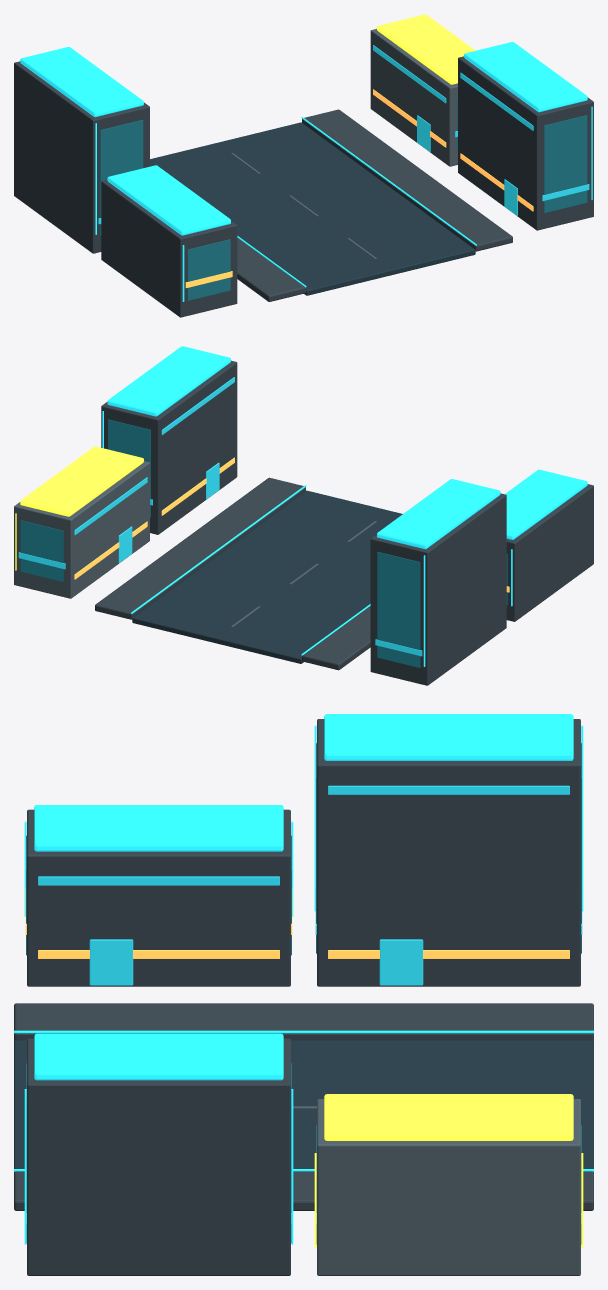
The model's file is alley_lod2.glb.
3 renders of one model, top to bottom at view 1: azimuth 30°, elevation 25°; view 2: azimuth 150°, elevation 25°; view 3: azimuth 270°, elevation 25°, orthographic. The views are drawn at different scales.
Parts seen in each view (by area): view 1: ND_Batch_ND_CityConcrete, ND_Batch_ND_WetAsphalt, ND_Batch_ND_CityCyanMuted, ND_Batch_ND_RoadEdge, ND_Batch_ND_DarkGlass, ND_Batch_ND_CityConcreteLight, ND_Batch_ND_PackageGold, ND_Batch_ND_NeonGlass, ND_Batch_ND_WarmWindow; view 2: ND_Batch_ND_CityConcrete, ND_Batch_ND_WetAsphalt, ND_Batch_ND_CityCyanMuted, ND_Batch_ND_RoadEdge, ND_Batch_ND_CityConcreteLight, ND_Batch_ND_DarkGlass, ND_Batch_ND_PackageGold, ND_Batch_ND_NeonGlass, ND_Batch_ND_WarmWindow; view 3: ND_Batch_ND_CityConcrete, ND_Batch_ND_CityCyanMuted, ND_Batch_ND_CityConcreteLight, ND_Batch_ND_RoadEdge, ND_Batch_ND_WetAsphalt, ND_Batch_ND_PackageGold, ND_Batch_ND_NeonGlass, ND_Batch_ND_WarmWindow, ND_Batch_ND_DarkGlass.
Part boxes in pixels (x1,y1,x2,y2): ND_Batch_ND_CityConcrete: (14,56,593,317); ND_Batch_ND_WetAsphalt: (150,122,475,295); ND_Batch_ND_CityCyanMuted: (20,42,592,301); ND_Batch_ND_RoadEdge: (237,109,512,301); ND_Batch_ND_DarkGlass: (100,98,587,300); ND_Batch_ND_CityConcreteLight: (231,29,457,259); ND_Batch_ND_PackageGold: (377,14,475,84); ND_Batch_ND_NeonGlass: (98,45,589,224); ND_Batch_ND_WarmWindow: (185,89,533,288); ND_Batch_ND_CityConcrete: (101,360,593,685); ND_Batch_ND_WetAsphalt: (132,490,402,663); ND_Batch_ND_CityCyanMuted: (102,346,587,666); ND_Batch_ND_RoadEdge: (95,477,370,670); ND_Batch_ND_CityConcreteLight: (14,461,376,627); ND_Batch_ND_DarkGlass: (20,419,507,667); ND_Batch_ND_PackageGold: (15,446,143,570); ND_Batch_ND_NeonGlass: (18,377,422,656); ND_Batch_ND_WarmWindow: (74,457,509,592); ND_Batch_ND_CityConcrete: (27,719,580,1275); ND_Batch_ND_CityCyanMuted: (14,714,593,1244); ND_Batch_ND_CityConcreteLight: (293,1099,580,1275); ND_Batch_ND_RoadEdge: (14,1003,593,1210); ND_Batch_ND_WetAsphalt: (14,1040,593,1172); ND_Batch_ND_PackageGold: (314,1094,583,1247); ND_Batch_ND_NeonGlass: (26,785,582,1223); ND_Batch_ND_WarmWindow: (25,888,569,958); ND_Batch_ND_DarkGlass: (26,743,581,1244).
Size of the model in its own units: 27.4 by 9.1 by 20.
